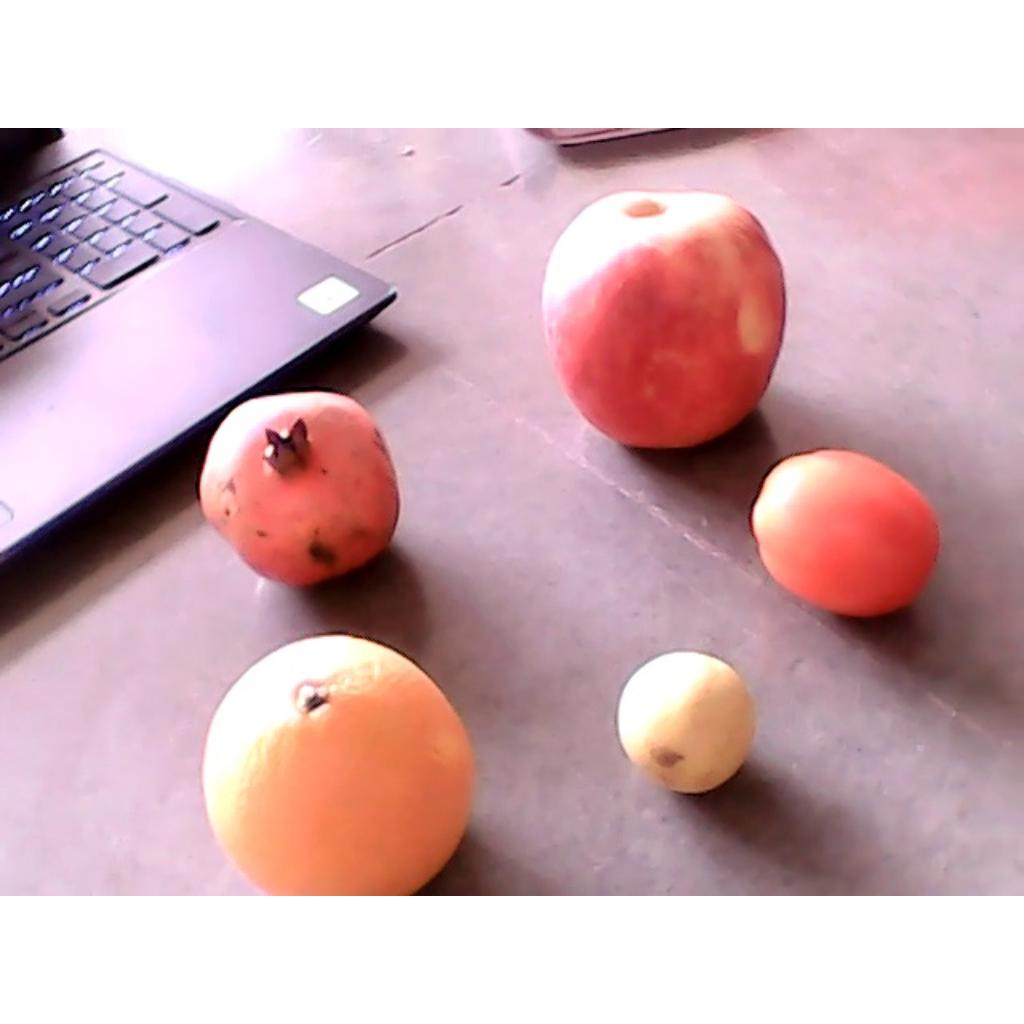apple: (540, 188, 785, 450)
lemon: (620, 649, 758, 793)
orange: (203, 626, 476, 894)
pomegranate: (198, 394, 401, 589)
tomato: (753, 447, 942, 617)
